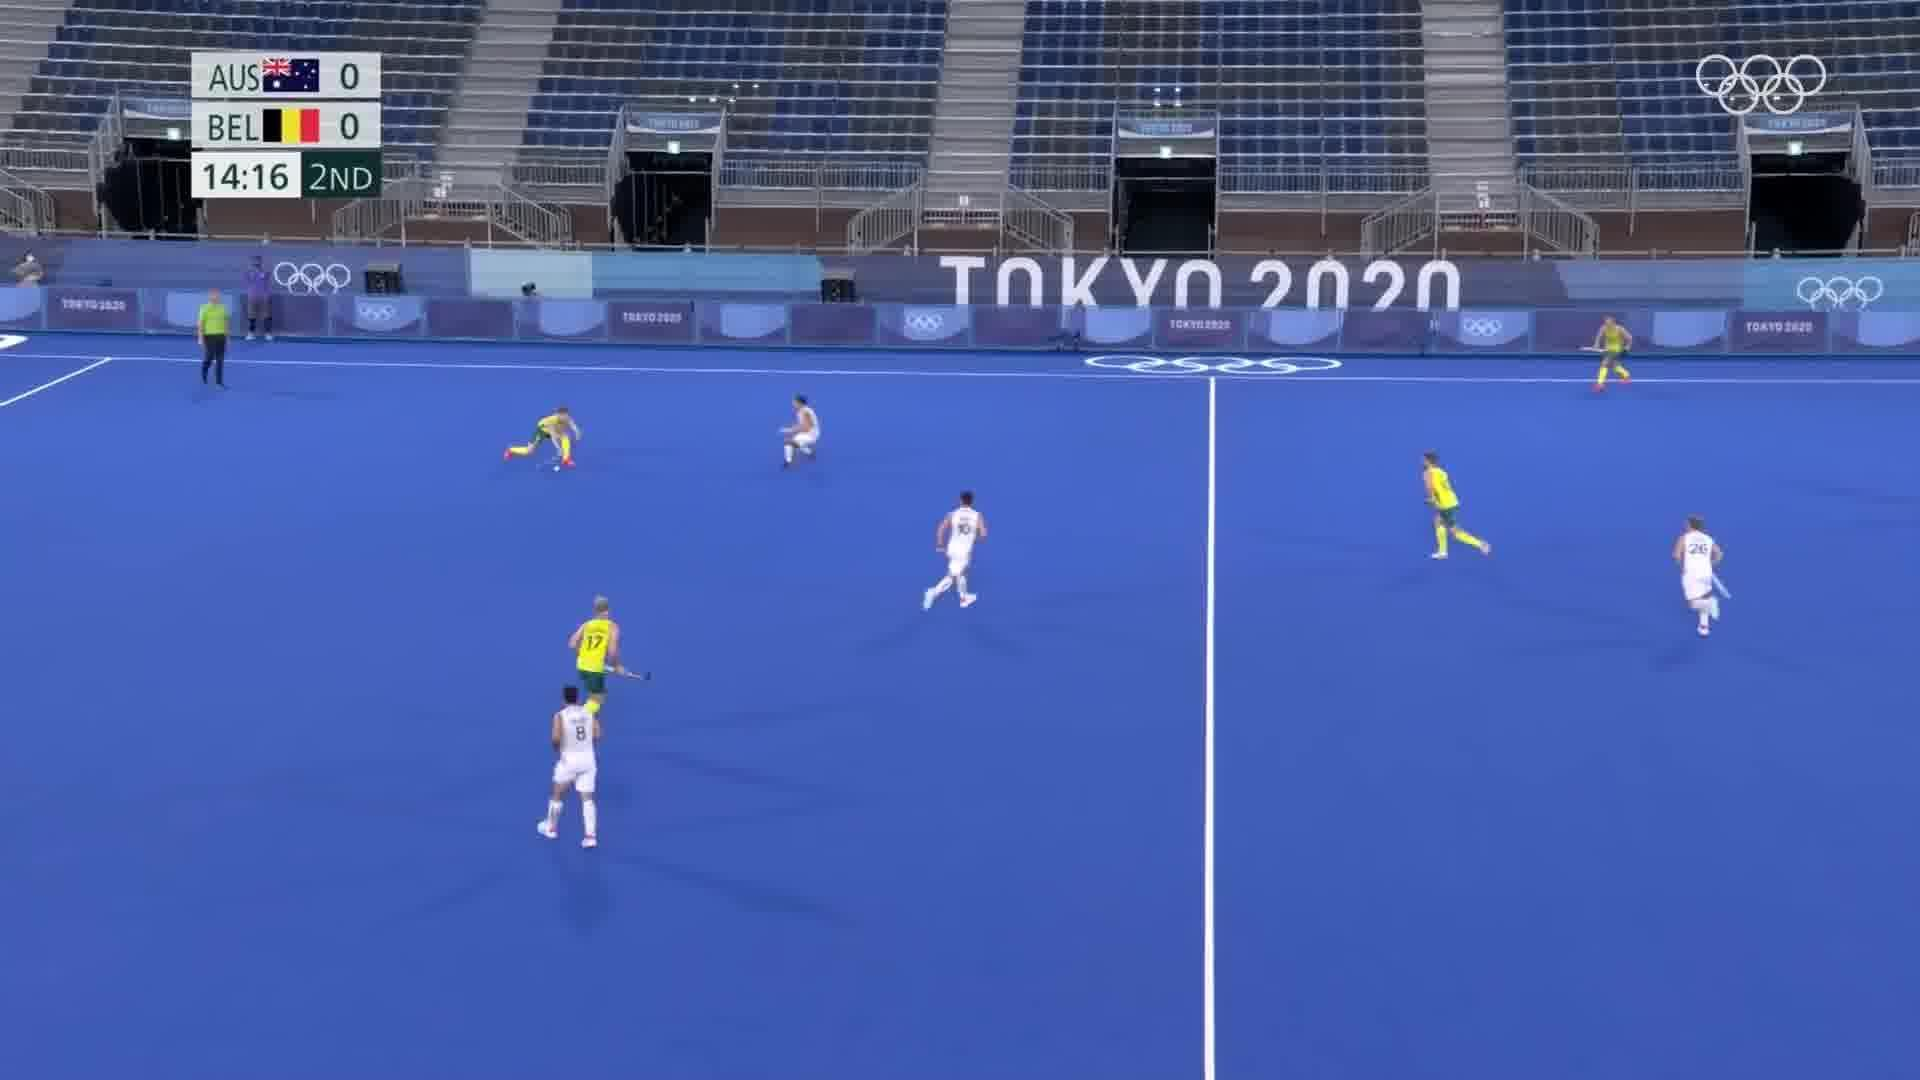ball: (549, 462, 562, 475)
